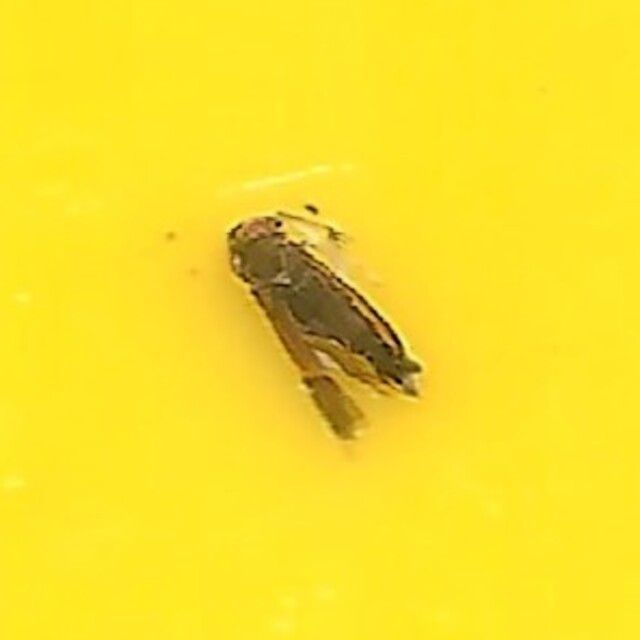Hemiptera: (216, 199, 424, 441)
